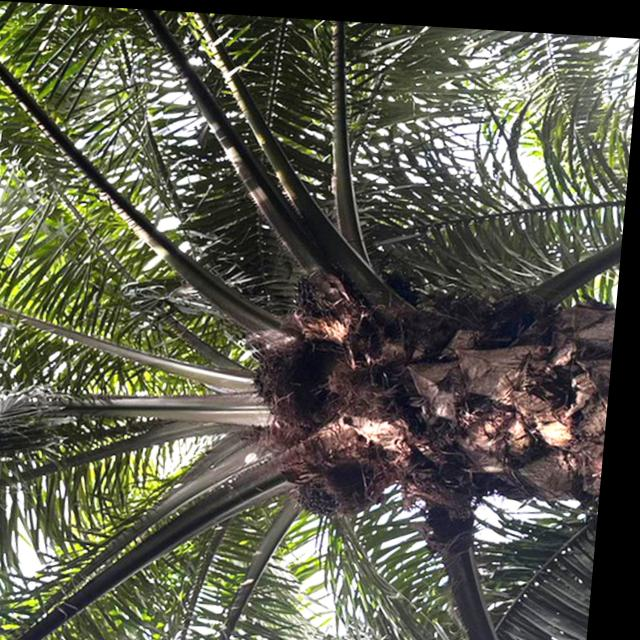unripe: (287, 254, 372, 345), (251, 342, 317, 407), (296, 464, 356, 521)
